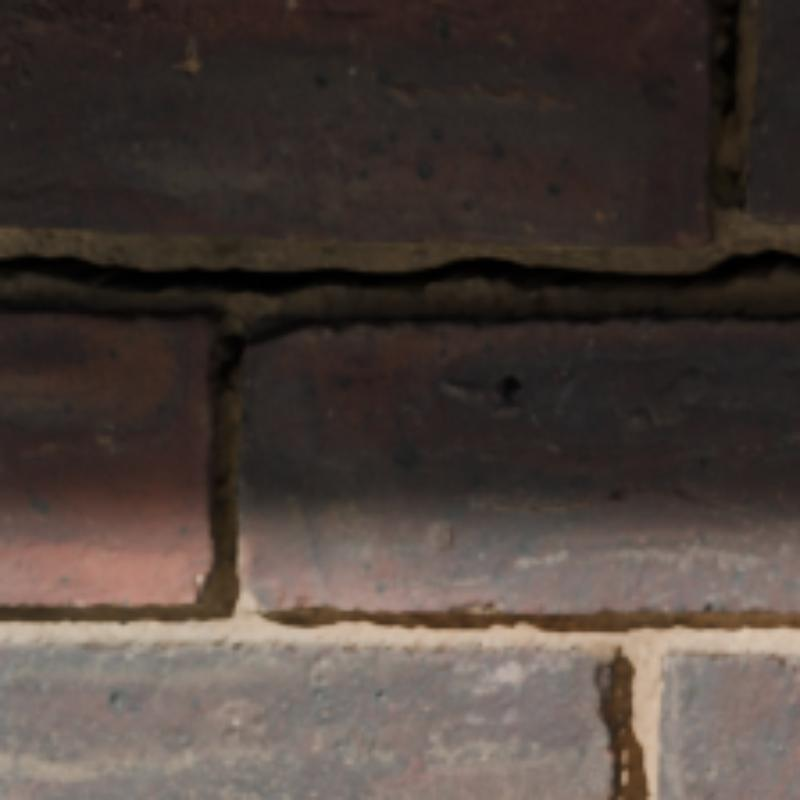pothole: (0, 246, 796, 296), (714, 0, 743, 114), (207, 336, 243, 389)
